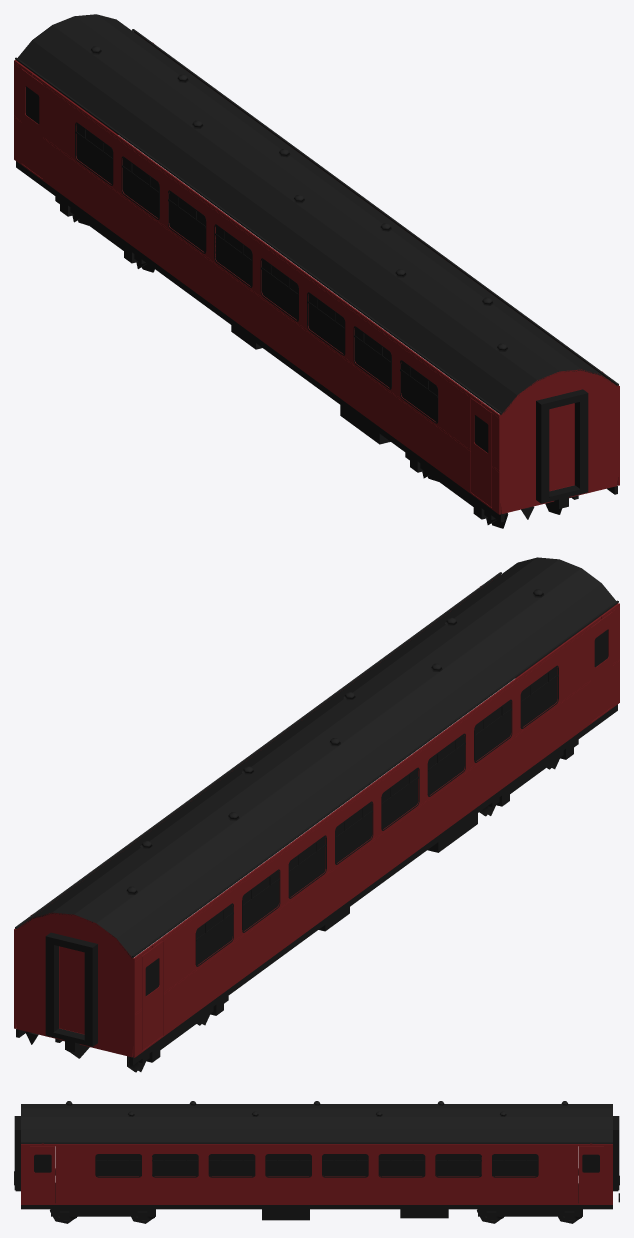
The model's file is coach_tso2b_lod2.glb.
The picture shows the model from 3 angles, top to bottom: view 1: azimuth 30°, elevation 25°; view 2: azimuth 150°, elevation 25°; view 3: azimuth 270°, elevation 25°; orthographic projection. The views are drawn at different scales.
Parts seen in each view (by area): view 1: coach_static_roof_black, coach_static_coach_maroon, coach_static_underframe, gw_door_A_coach_maroon; view 2: coach_static_roof_black, coach_static_coach_maroon, coach_static_underframe, gw_door_B_coach_maroon; view 3: coach_static_coach_maroon, coach_static_roof_black, coach_static_underframe.
Part boxes in pixels (x1=…): coach_static_roof_black: x1=15, y1=14, x2=618, y2=414; coach_static_coach_maroon: x1=14, y1=40, x2=619, y2=514; coach_static_underframe: x1=16, y1=86, x2=617, y2=528; gw_door_A_coach_maroon: x1=549, y1=403, x2=574, y2=490; coach_static_roof_black: x1=15, y1=557, x2=618, y2=958; coach_static_coach_maroon: x1=14, y1=580, x2=619, y2=1057; coach_static_underframe: x1=16, y1=629, x2=617, y2=1072; gw_door_B_coach_maroon: x1=59, y1=946, x2=84, y2=1034; coach_static_coach_maroon: x1=21, y1=1143, x2=612, y2=1204; coach_static_roof_black: x1=21, y1=1101, x2=612, y2=1143; coach_static_underframe: x1=14, y1=1116, x2=619, y2=1223.
Bounding box in the file's own units: 2.86 × 3.98 × 20.12.
